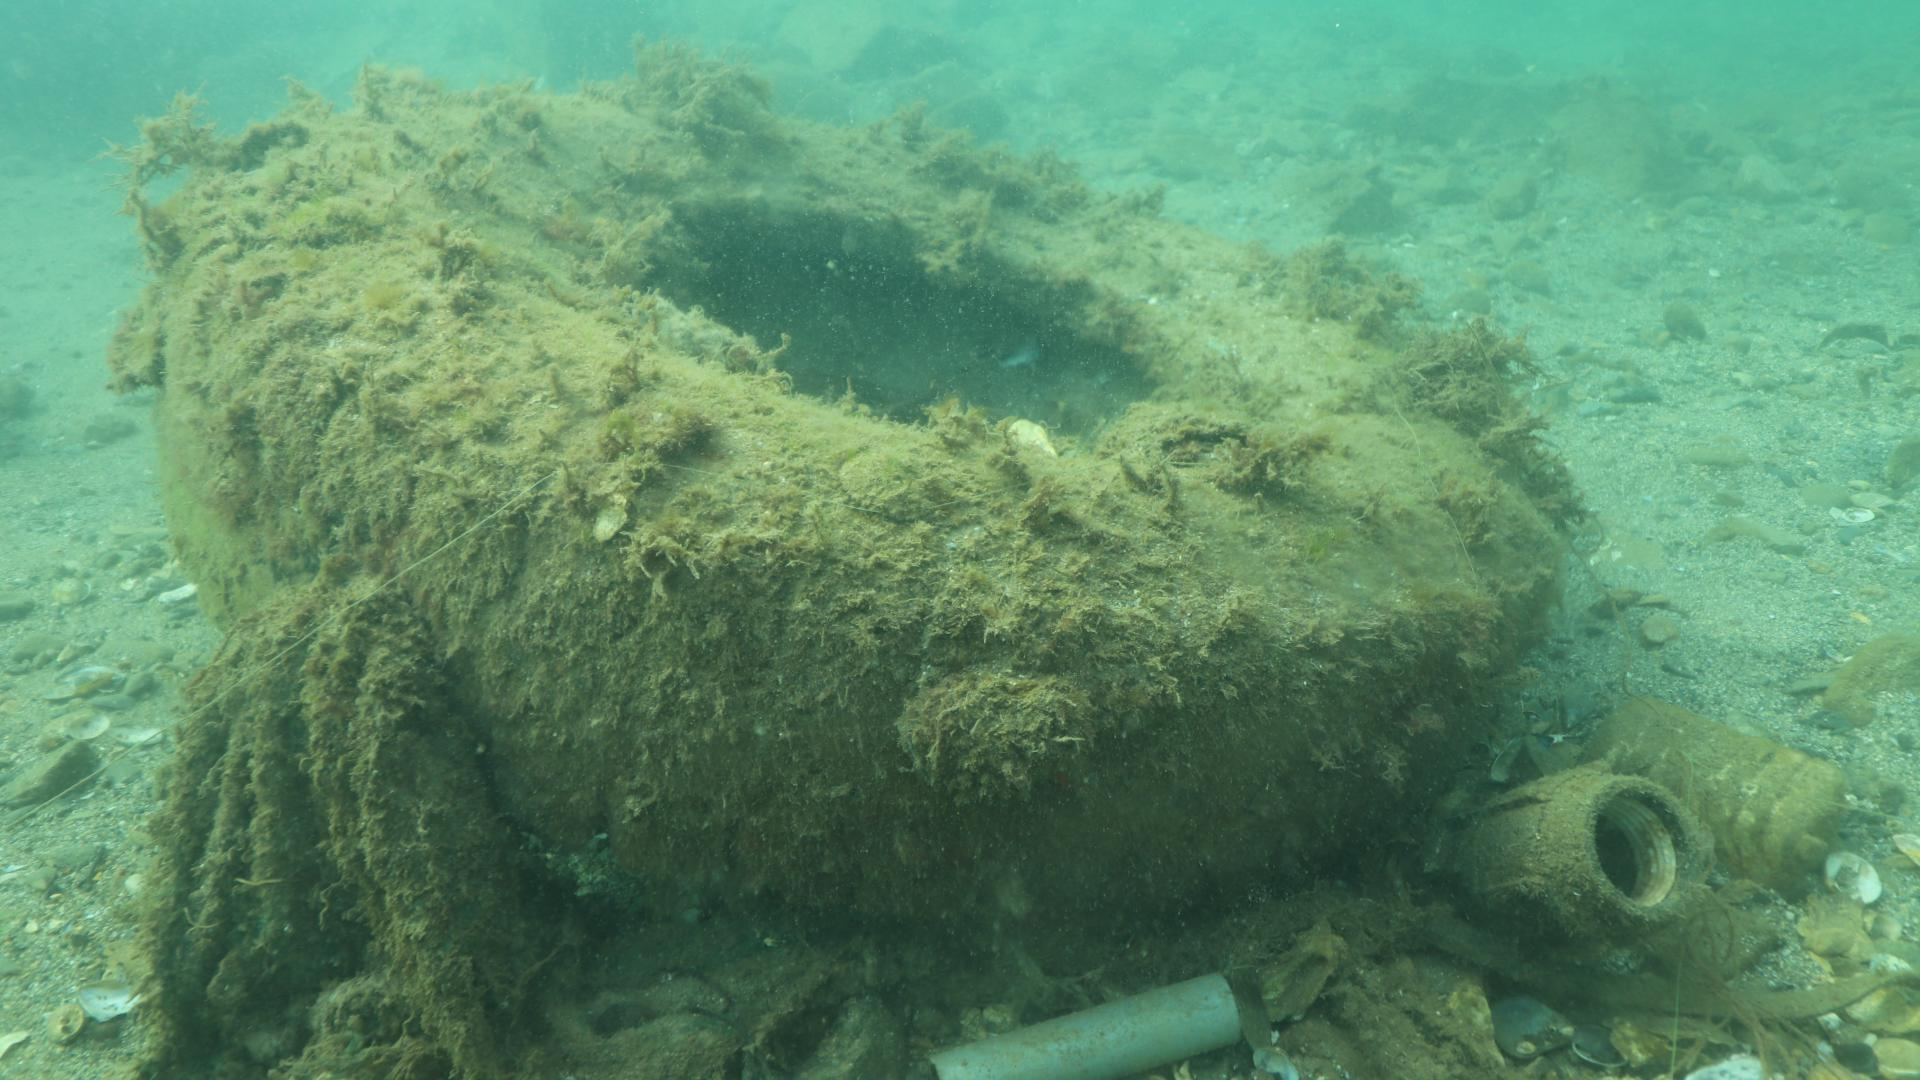tire: (164, 90, 1557, 907)
